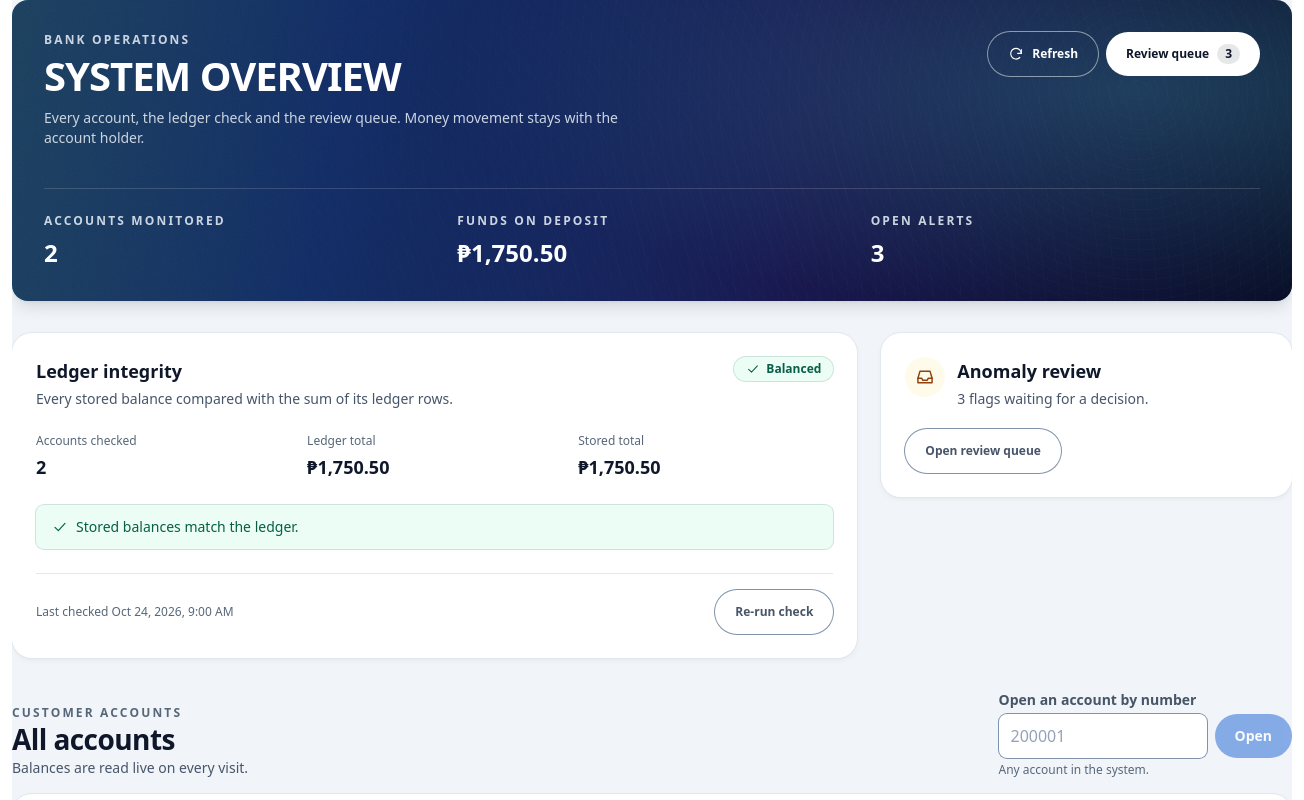
Scenario: AdminDashboardPage › reports a refused lookup without leaving the overview
In the field labelled "Open an account by number": (1102, 736) [998,714,1206,758], type "999999"
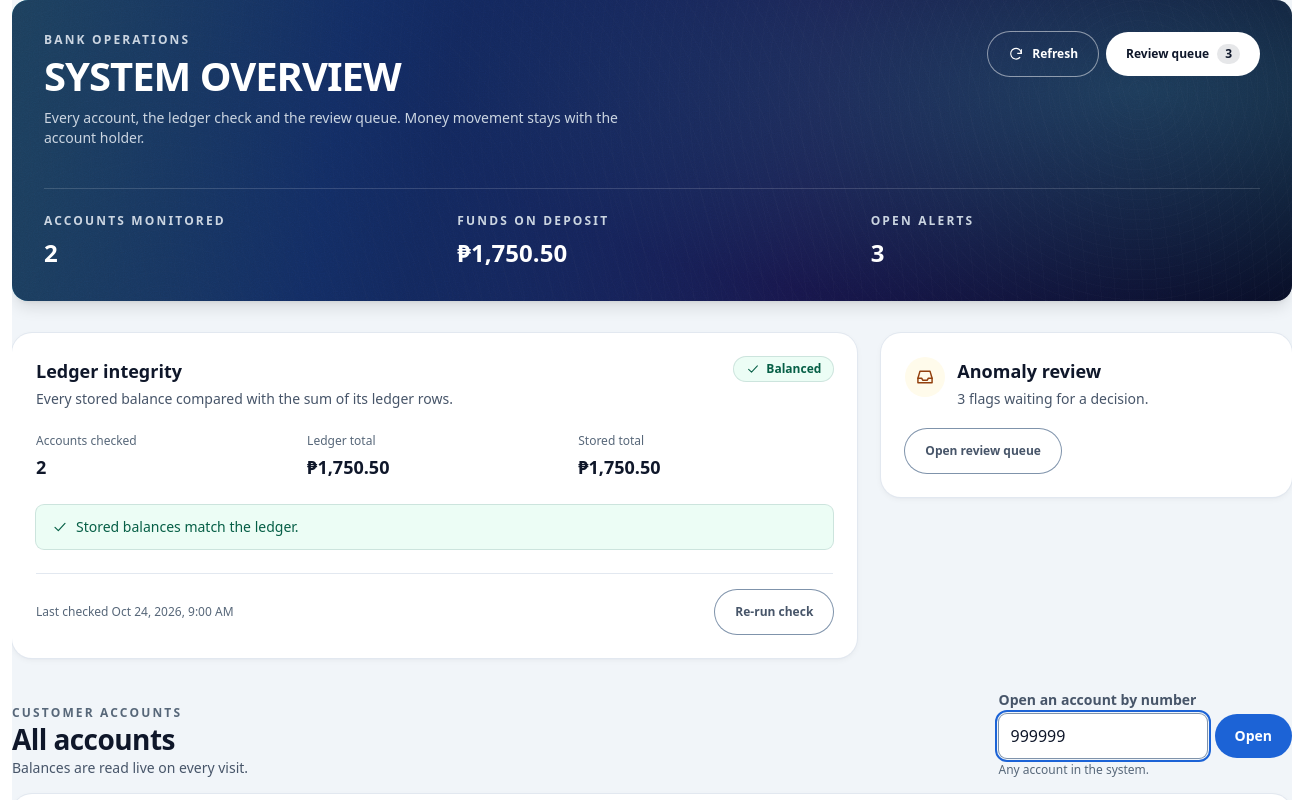
Click the button "Open": (1253, 736) [1214,714,1292,758]
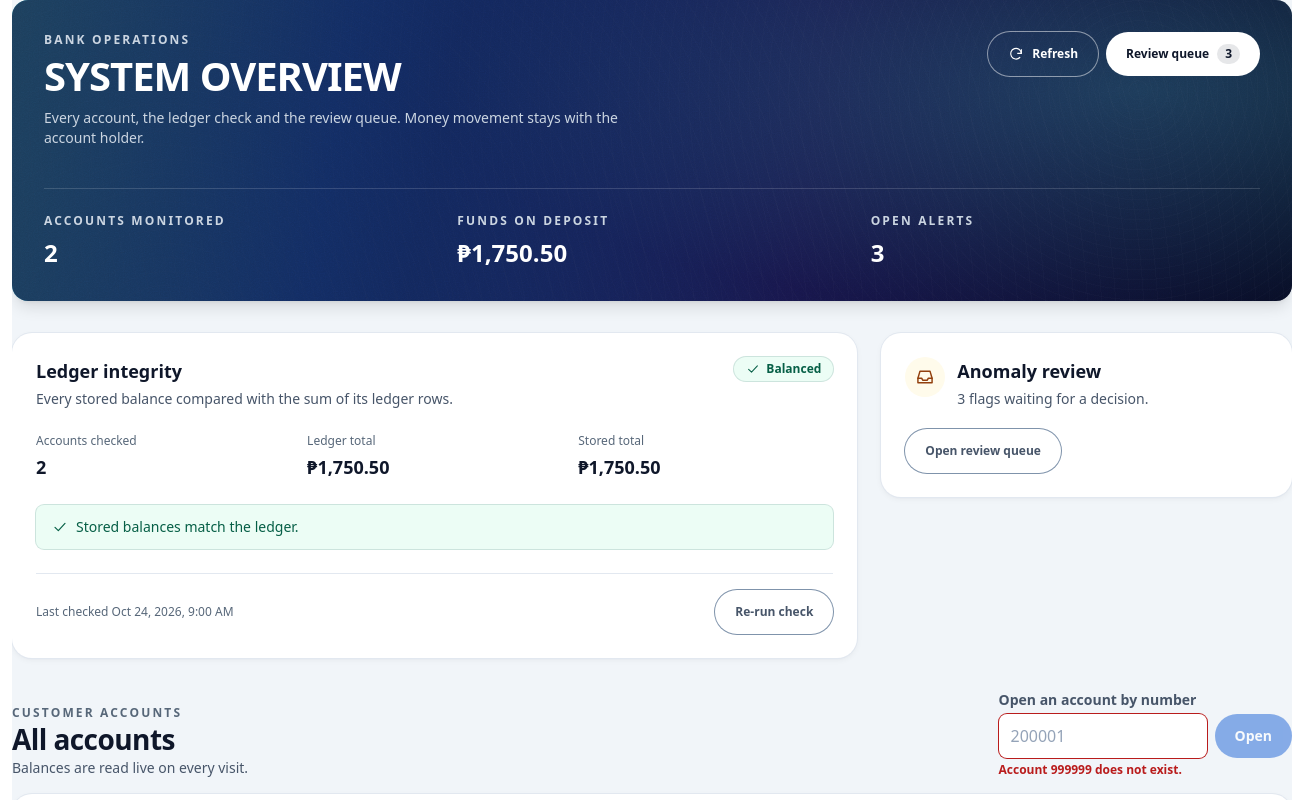
Expected: the heading "System overview" is shown, [44,48,401,103]
Result: the message reads "Account 999999 does not exist." at [998,761,1182,778]
